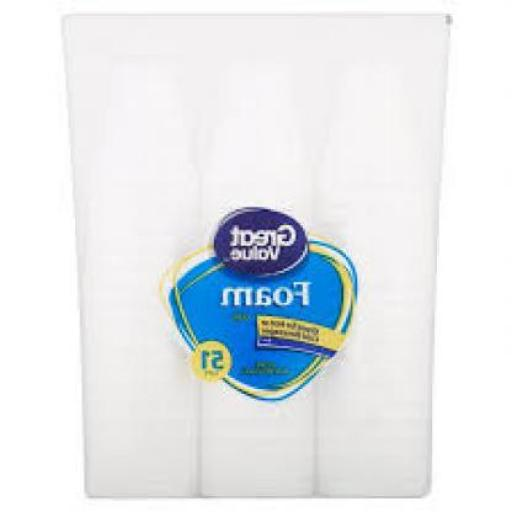paper: (66, 9, 453, 496)
